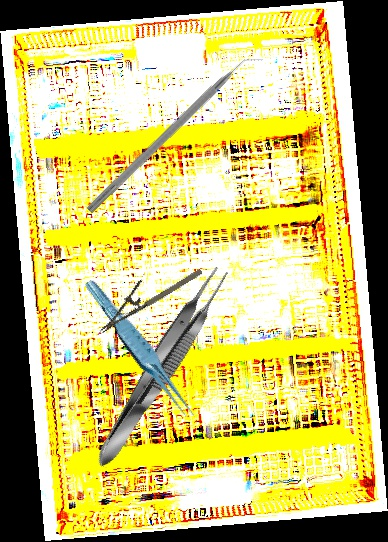Chopper: (85, 47, 267, 223)
Needle Holder: (87, 252, 205, 334)
Tissue Forceps: (85, 260, 237, 474), (83, 271, 198, 431)
